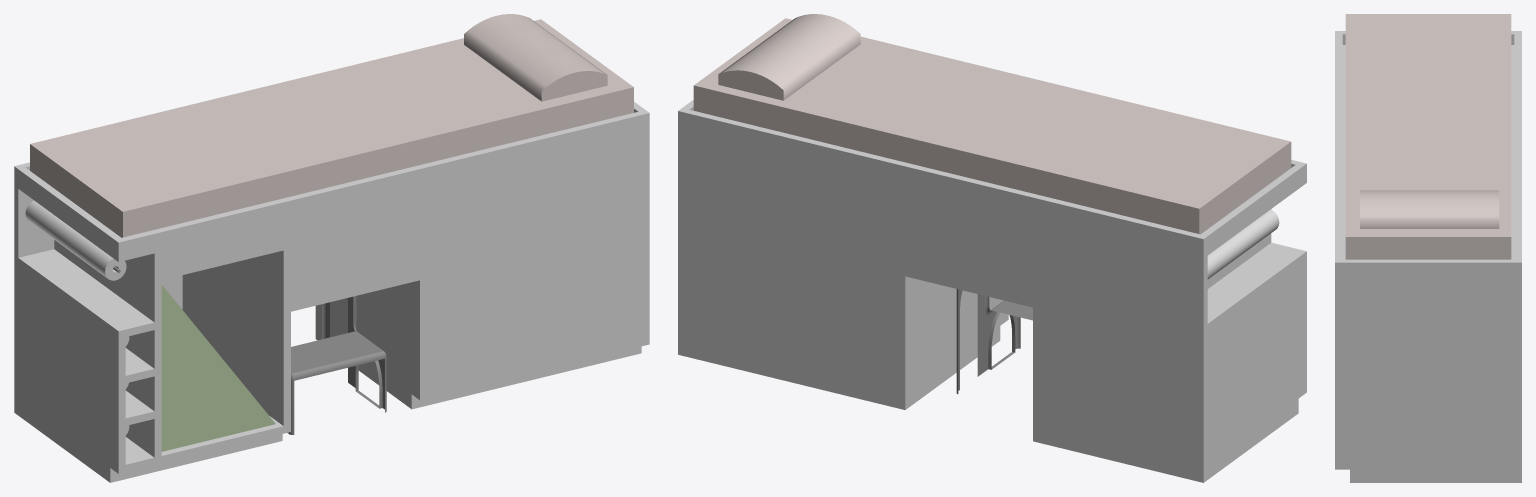
3 renders of one model, left to right at view 1: azimuth 30°, elevation 25°; view 2: azimuth 150°, elevation 25°; view 3: azimuth 270°, elevation 25°, orthographic. The views are drawn at different scales.
Parts seen in each view (by area): view 1: Group_002, Group_004, Group_007, Group_005, Escada de plastico_001, Group#12_003; view 2: Group_002, Group_004, Group_005, Escada de plastico_001, Group#12_003; view 3: Group_002, Group_004, Group_005.
Boxes of the visible parts, box(x1,y1,x2,y2) form: Group_002: box(14, 102, 649, 482); Group_004: box(30, 19, 633, 237); Group_007: box(161, 285, 275, 451); Group_005: box(464, 14, 607, 101); Escada de plastico_001: box(288, 296, 386, 434); Group#12_003: box(25, 200, 126, 280); Group_002: box(678, 100, 1306, 482); Group_004: box(693, 18, 1291, 234); Group_005: box(718, 14, 860, 100); Escada de plastico_001: box(956, 289, 1032, 393); Group#12_003: box(1207, 209, 1279, 279); Group_002: box(1335, 31, 1521, 482); Group_004: box(1345, 14, 1511, 259); Group_005: box(1360, 190, 1499, 228).
Size of the model in its own units: 1.85 by 0.97 by 0.63.
